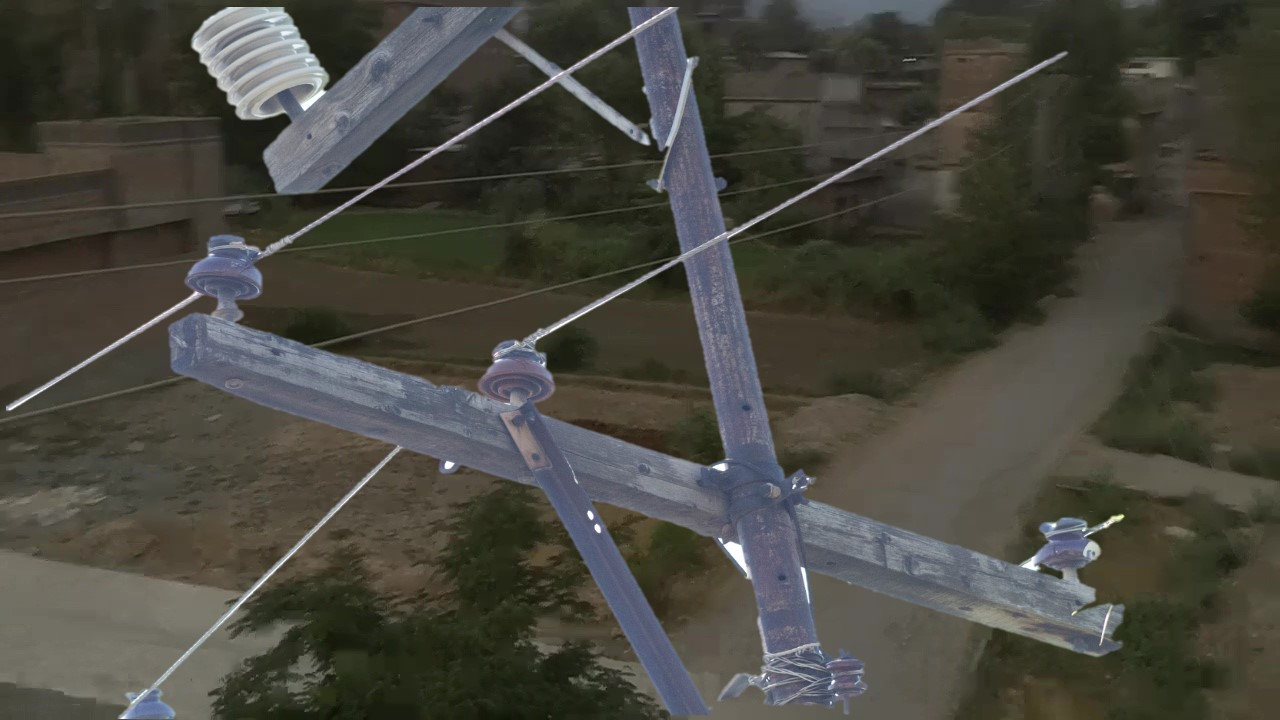defect_pin: (1025, 505, 1110, 578)
insulator_pin: (177, 225, 274, 310), (474, 334, 565, 410)
